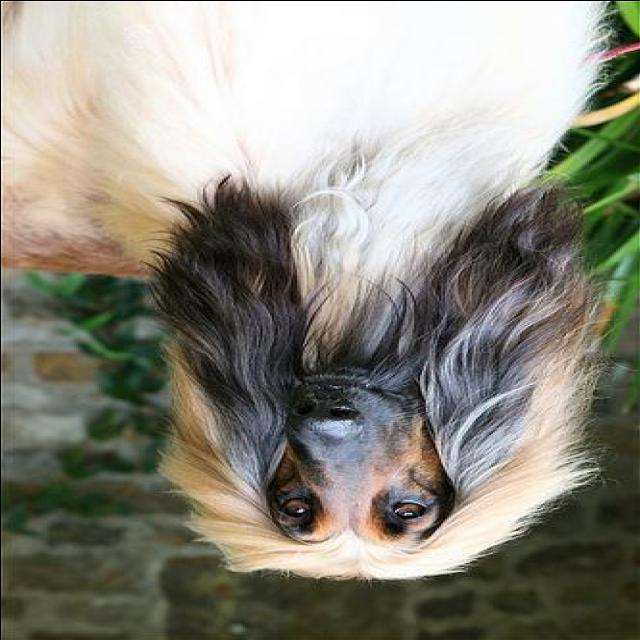afghan_hound: (0, 3, 605, 582)
